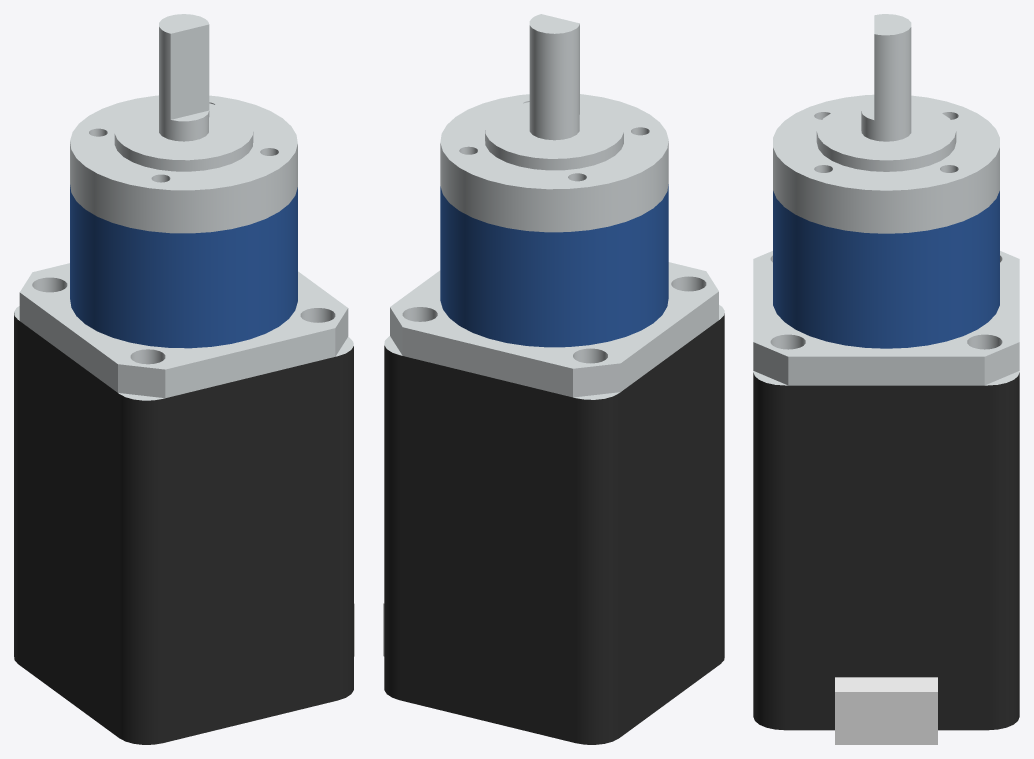
3 views of the same model, side by side, from view 1: azimuth 30°, elevation 25°; view 2: azimuth 150°, elevation 25°; view 3: azimuth 270°, elevation 25° (orthographic).
Parts seen in each view (by area): view 1: ÇÐ³ý-ÀÉì3, ÇÐ³ý-ÀÉì6; view 2: ÇÐ³ý-ÀÉì3, ÇÐ³ý-ÀÉì6; view 3: ÇÐ³ý-ÀÉì3, ÇÐ³ý-ÀÉì6.
Boxes of the visible parts, left/top/right/bottom form: ÇÐ³ý-ÀÉì3: left=14, top=306, right=354, bottom=744; ÇÐ³ý-ÀÉì6: left=19, top=14, right=348, bottom=398; ÇÐ³ý-ÀÉì3: left=383, top=305, right=724, bottom=744; ÇÐ³ý-ÀÉì6: left=390, top=14, right=718, bottom=397; ÇÐ³ý-ÀÉì3: left=753, top=371, right=1019, bottom=744; ÇÐ³ý-ÀÉì6: left=753, top=14, right=1019, bottom=385.
Bounding box in the file's own units: 1.87 × 4.45 × 1.65.
